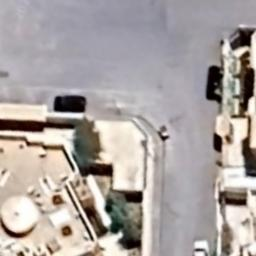sedan: (190, 236, 212, 256)
